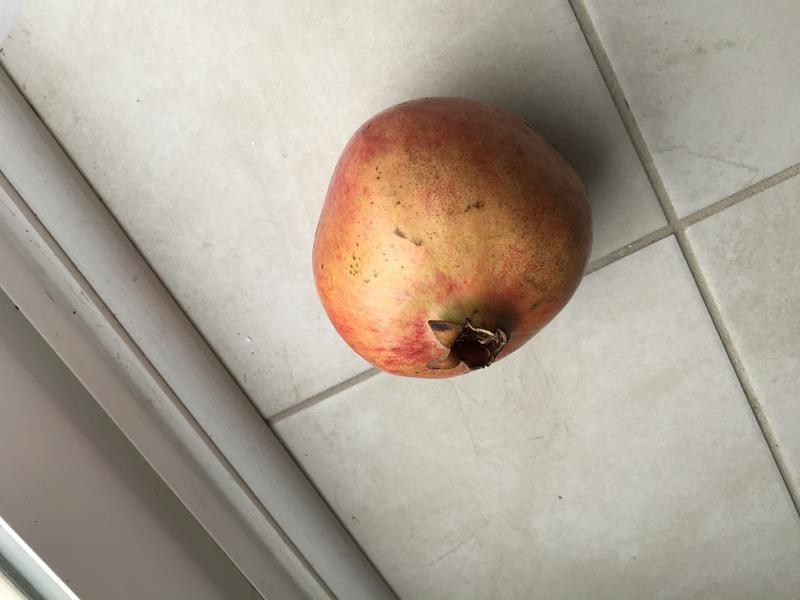pomegranate: (298, 82, 605, 391)
